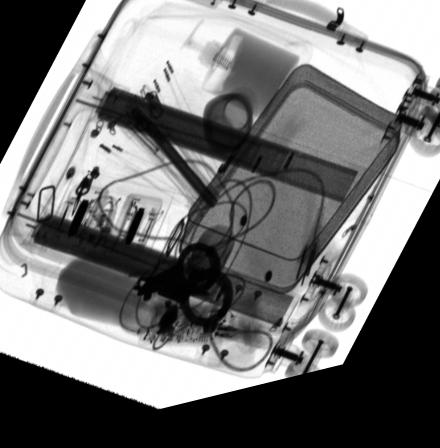HandCuffs: (132, 249, 234, 342)
